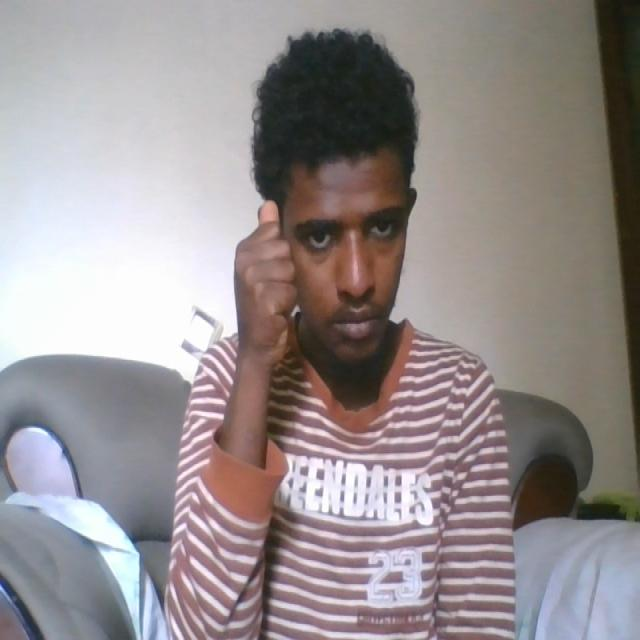agot: (226, 187, 320, 358)
